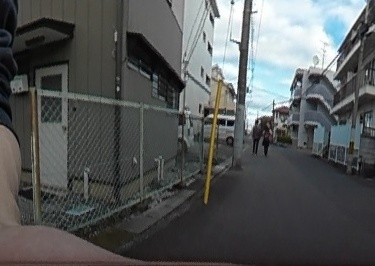person: (251, 118, 261, 152), (261, 124, 271, 154)
